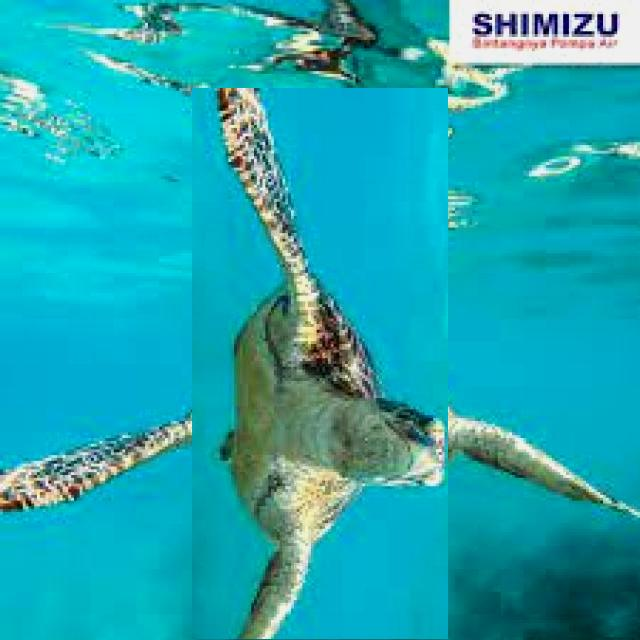Sea turtle: (96, 184, 544, 633)
